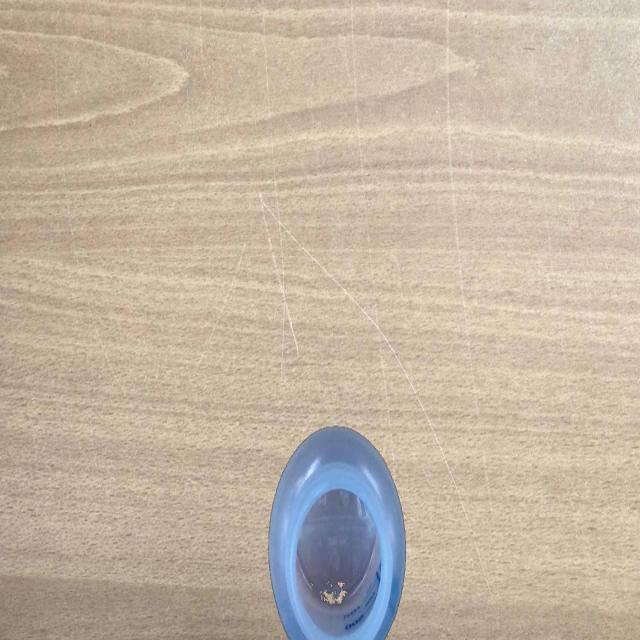bottle: (267, 421, 407, 640)
